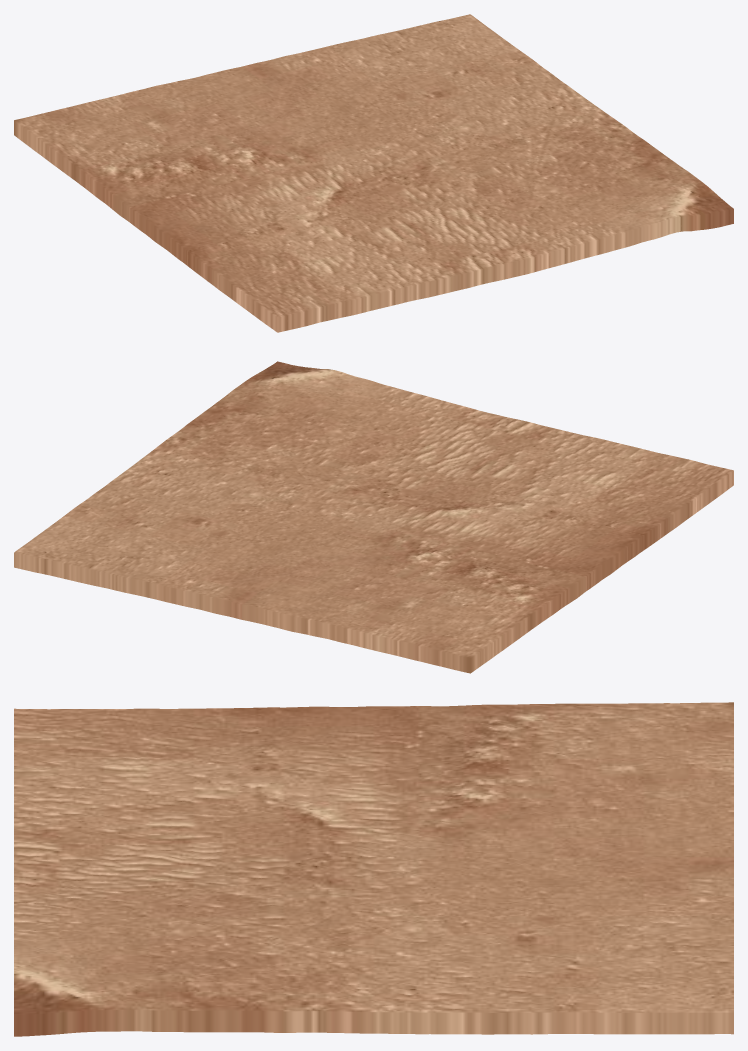
3 views of the same model, one above another, from view 1: azimuth 30°, elevation 25°; view 2: azimuth 150°, elevation 25°; view 3: azimuth 270°, elevation 25° (orthographic). The views are drawn at different scales.
Parts seen in each view (by area): view 1: L6_39_18; view 2: L6_39_18; view 3: L6_39_18.
Part boxes in pixels (x1,y1,x2,y2): L6_39_18: (14, 14, 733, 332); L6_39_18: (14, 361, 733, 673); L6_39_18: (14, 702, 733, 1036).
Bounding box in the file's own units: 225 × 10.8 × 225.
1 material, 1 textured.
